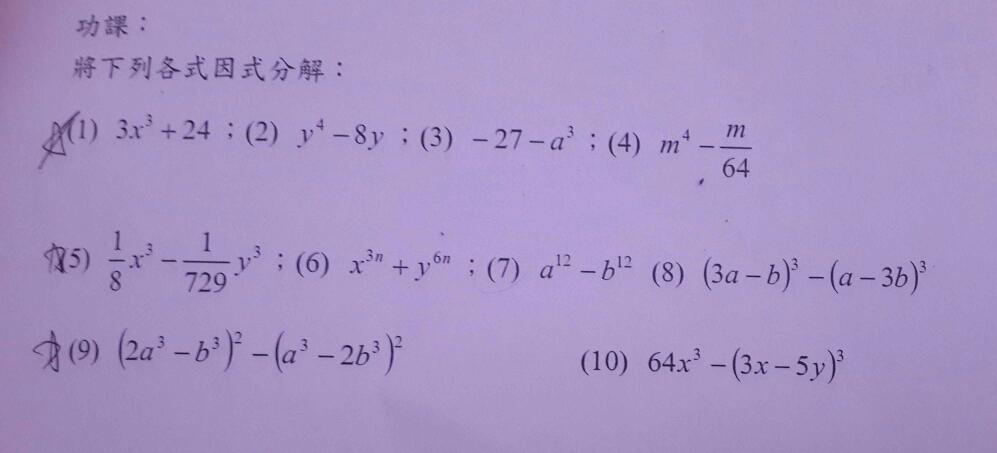cube: (247, 242, 265, 262), (788, 256, 804, 276), (151, 333, 166, 352), (836, 346, 849, 366), (689, 346, 703, 362), (367, 337, 381, 353), (296, 336, 309, 353), (919, 258, 929, 277), (145, 111, 155, 129), (145, 241, 154, 260), (212, 332, 220, 352), (567, 122, 573, 138)
square: (391, 335, 407, 348), (235, 329, 243, 347)
